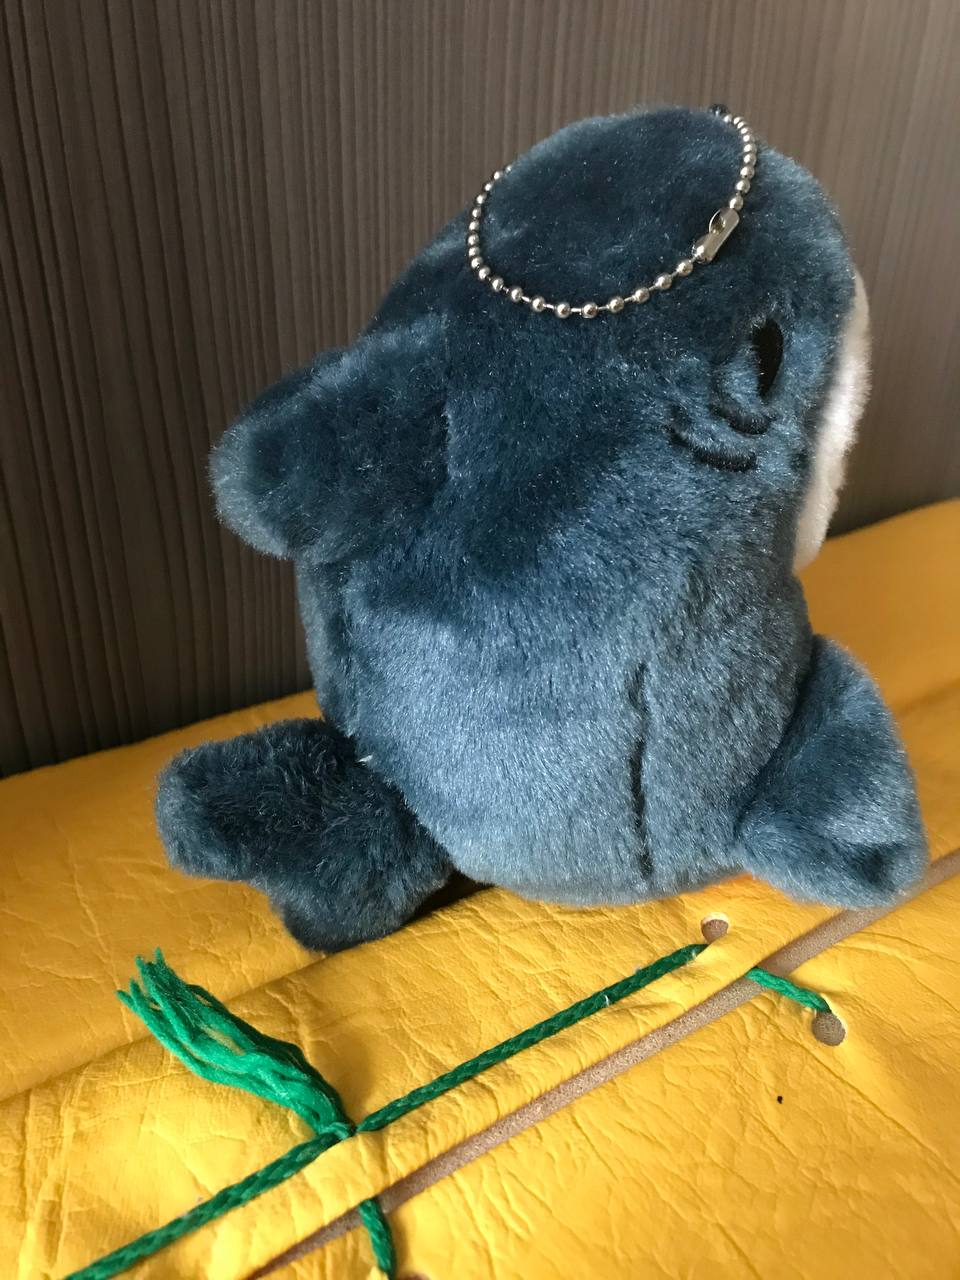cat_shark: (156, 106, 926, 949)
